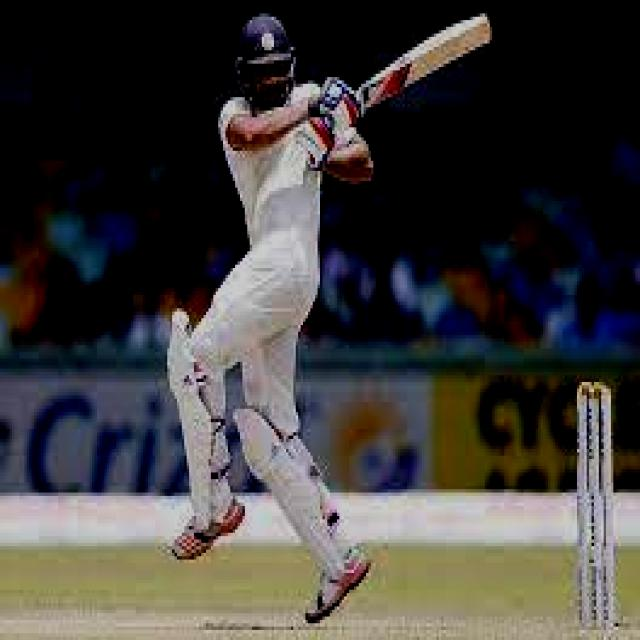toe: (468, 7, 497, 63)
